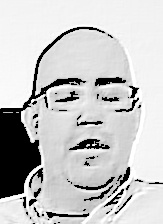nose_M_C: (74, 93, 106, 136)
